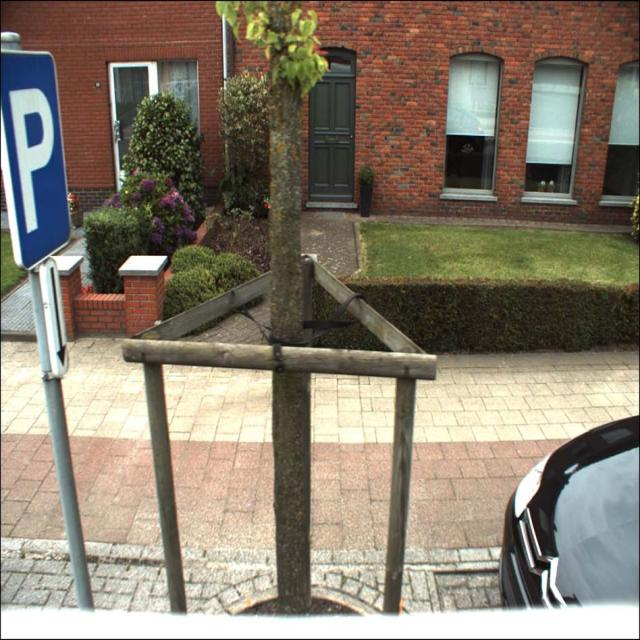park: (0, 49, 72, 265)
